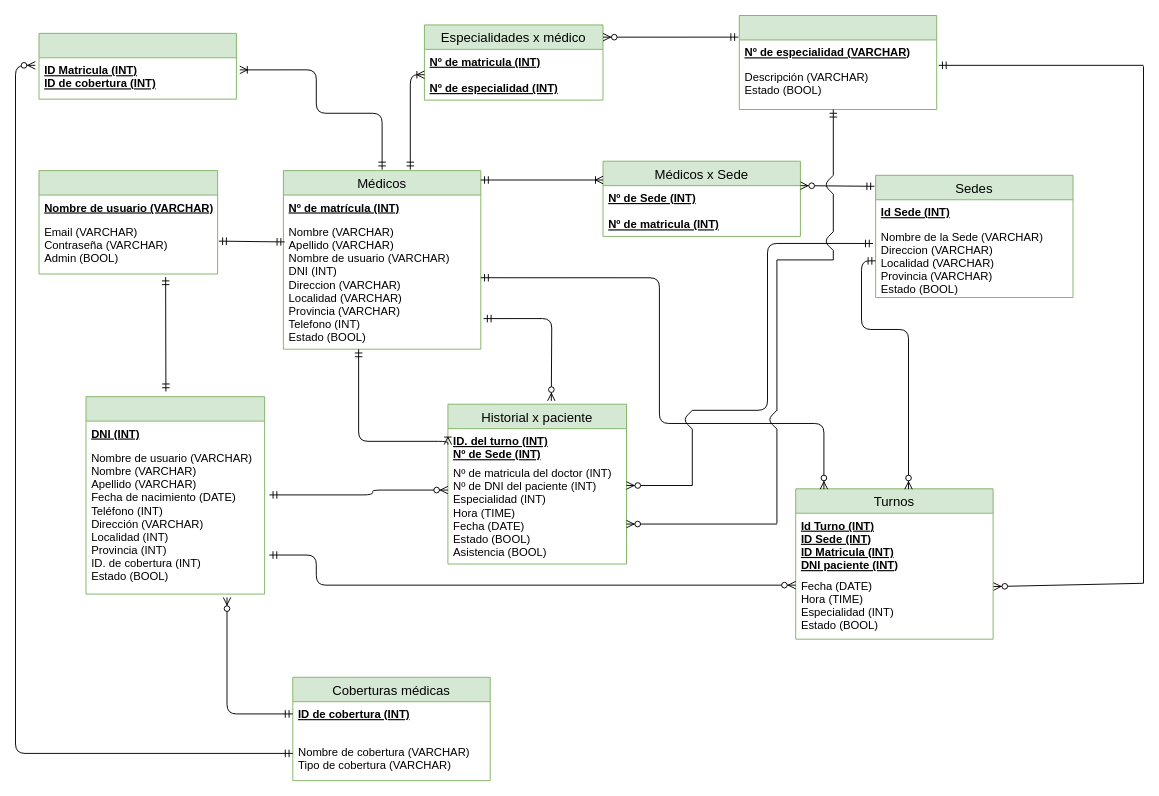
The diagram is 1159 pixels wide and 796 high, and some of its shapes have lost their labels. Here are the shapes that lost their labels. From the top down, the box of each, then its label:
(38, 32, 236, 99): Coberturas por médico
(738, 15, 937, 110): Especialidades
(38, 170, 218, 274): Usuarios
(85, 396, 265, 594): Pacientes
